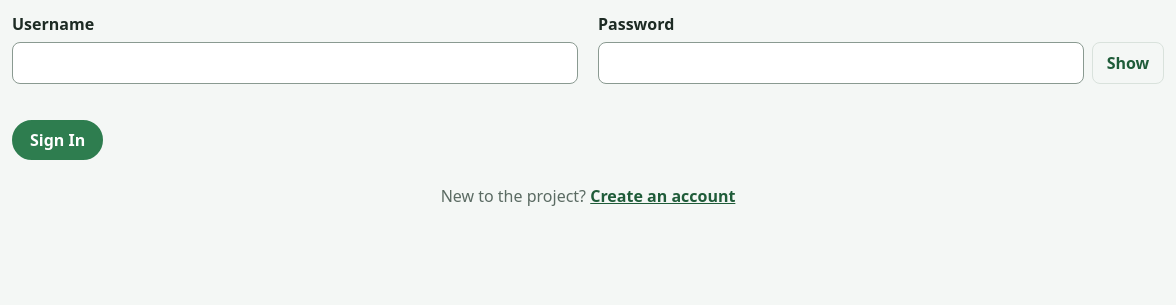
Test: SignInForm › shows a network message when the server cannot be reached
The image size is (1176, 305).
Type "demo.farmer" into the field labelled "Username" at (295, 63), box top-left (12, 42), bottom-right (578, 84)
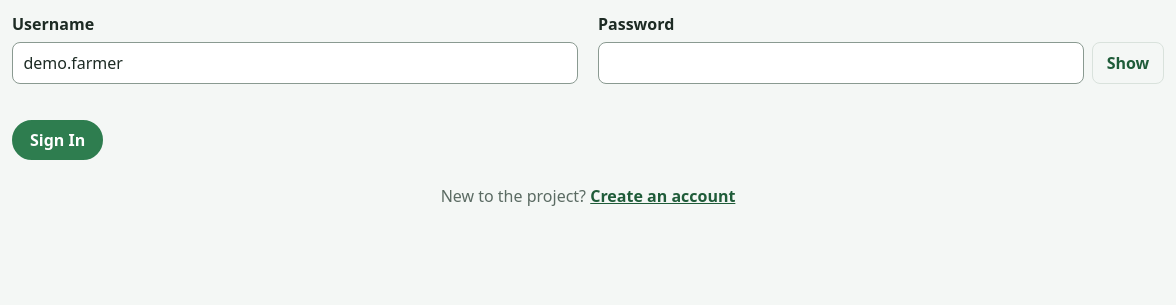
Type "FarmerDemo2026" into the password field labelled "Password" at (841, 63), box top-left (598, 42), bottom-right (1084, 84)
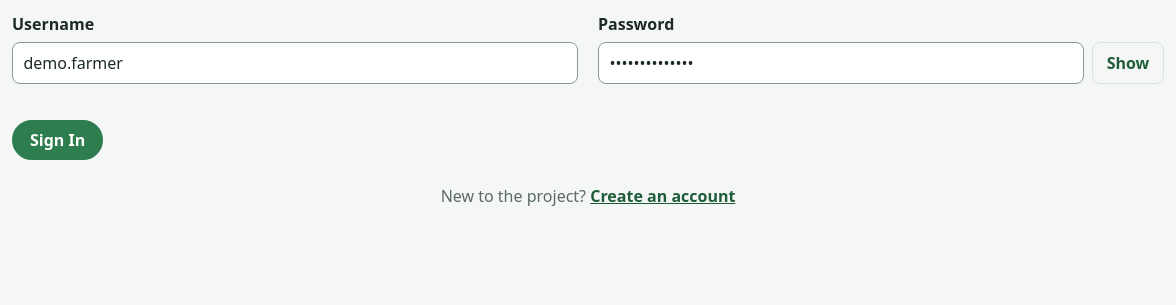
Click the button "Sign In" at (58, 140), box top-left (12, 120), bottom-right (103, 160)
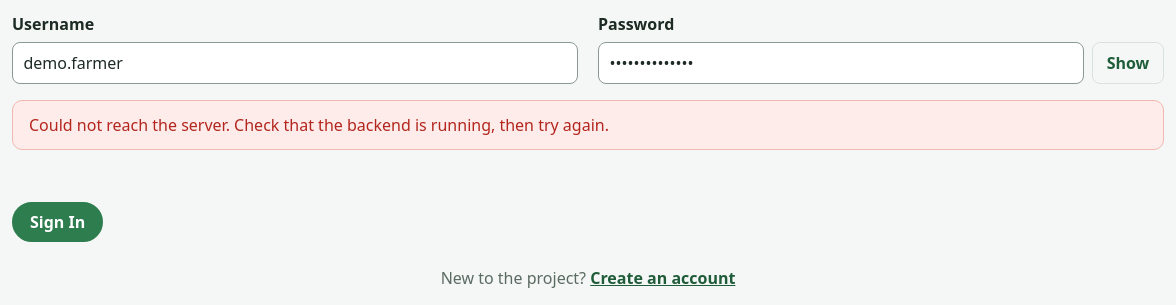
Now the message shows "Could not reach the server", box top-left (29, 114), bottom-right (609, 136)
